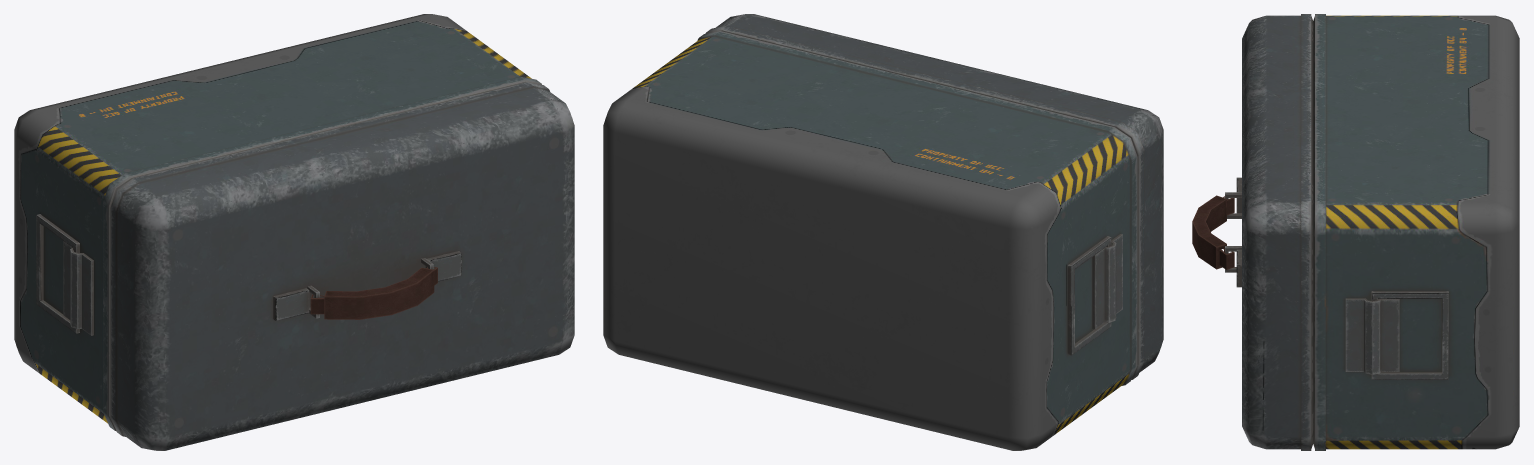
File: faraday-cage.glb
The picture shows the model from 3 angles, left to right: view 1: azimuth 30°, elevation 25°; view 2: azimuth 150°, elevation 25°; view 3: azimuth 270°, elevation 25°; orthographic projection. The views are drawn at different scales.
Parts seen in each view (by area): view 1: Faraday_Cage(Clone); view 2: Faraday_Cage(Clone); view 3: Faraday_Cage(Clone).
Boxes of the visible parts, x1,y1,x2,y2 form: Faraday_Cage(Clone): (14, 14, 574, 450); Faraday_Cage(Clone): (603, 14, 1163, 450); Faraday_Cage(Clone): (1192, 14, 1519, 450).
Bounding box in the file's own units: 1.92 × 1.1 × 1.23.
1 material, 1 textured.
